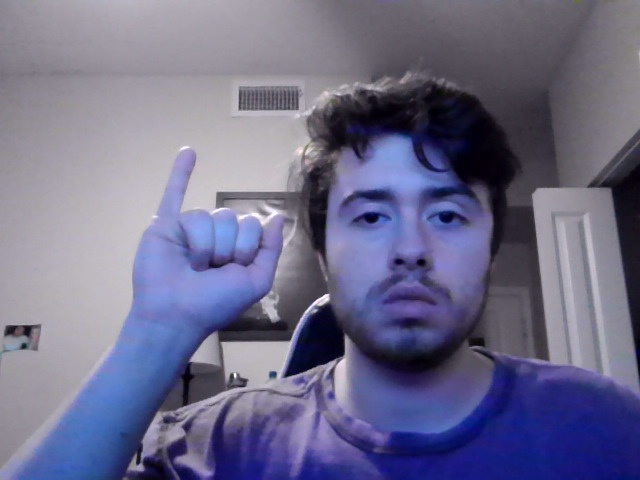i: (131, 145, 286, 342)
